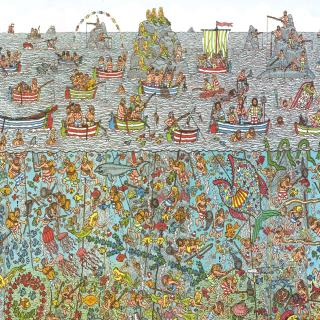Waldo: (150, 64, 155, 74)
